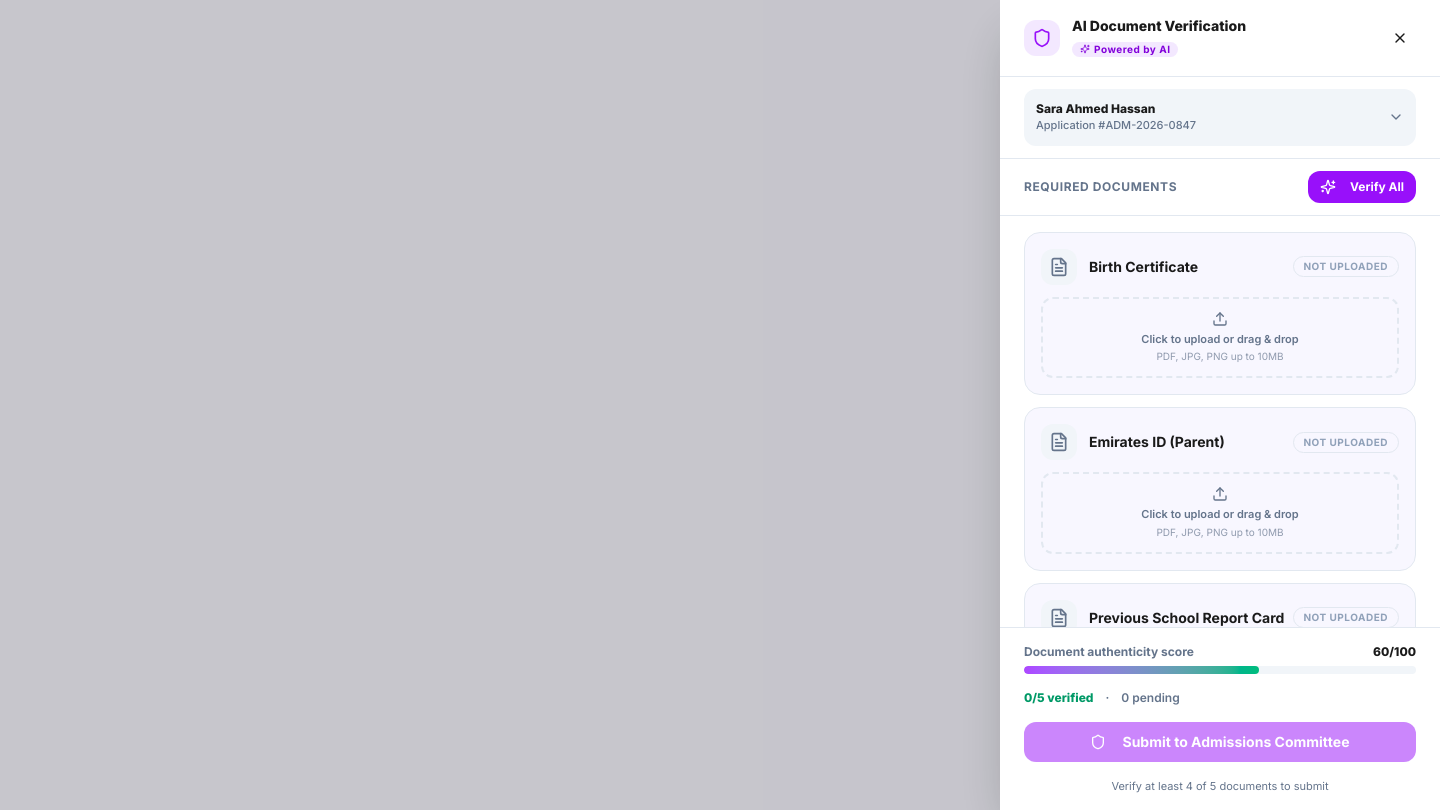
it: AIDocumentVerification › verifying a document shows a failure message when Math.random rolls high
This screenshot has width=1440, height=810.
Click the text "Click to upload or drag & drop" below "Birth Certificate" at (1220, 338), box [1141,332,1299,346]
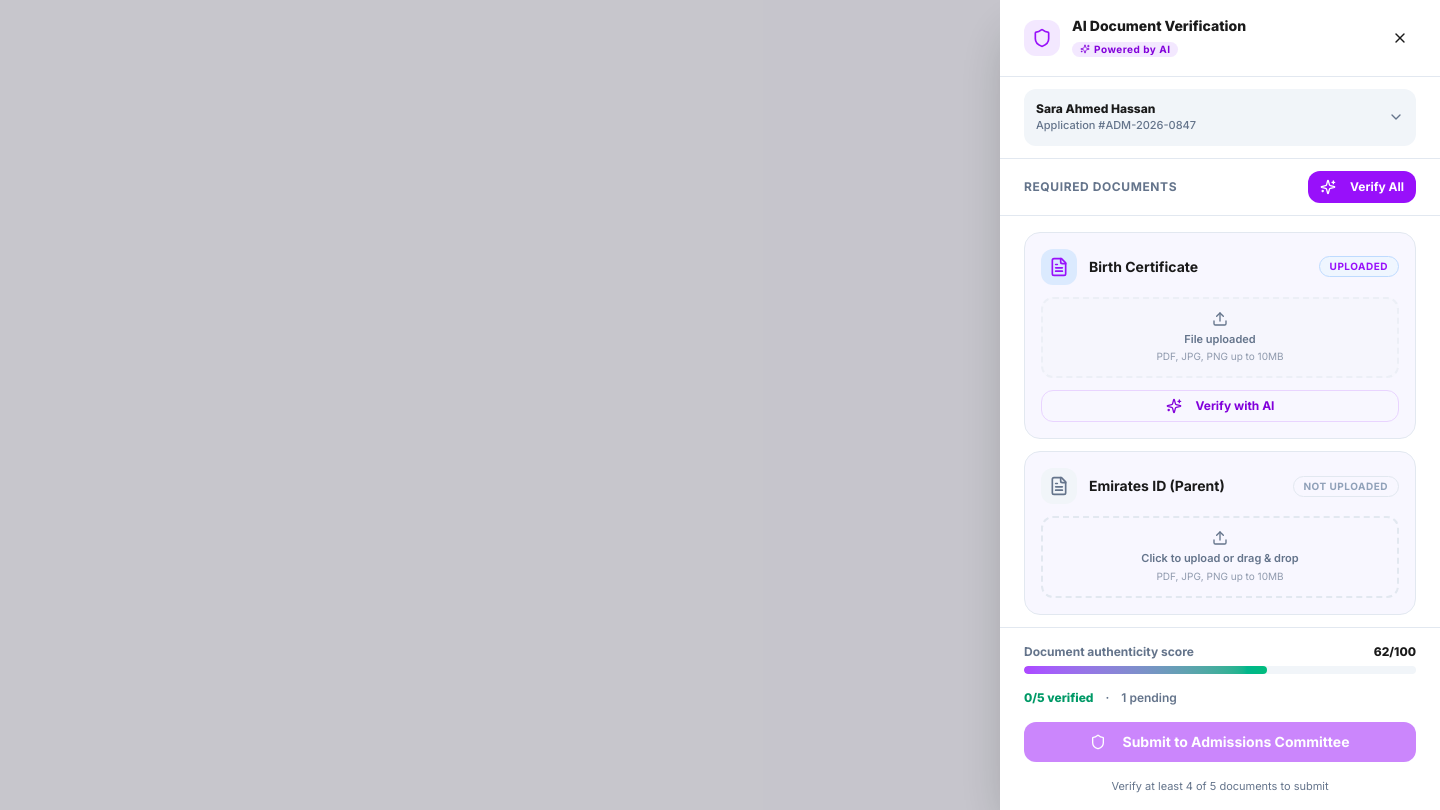
Click the button "Verify with AI" at (1220, 406), box [1041,390,1399,422]
Wait 2000 ms
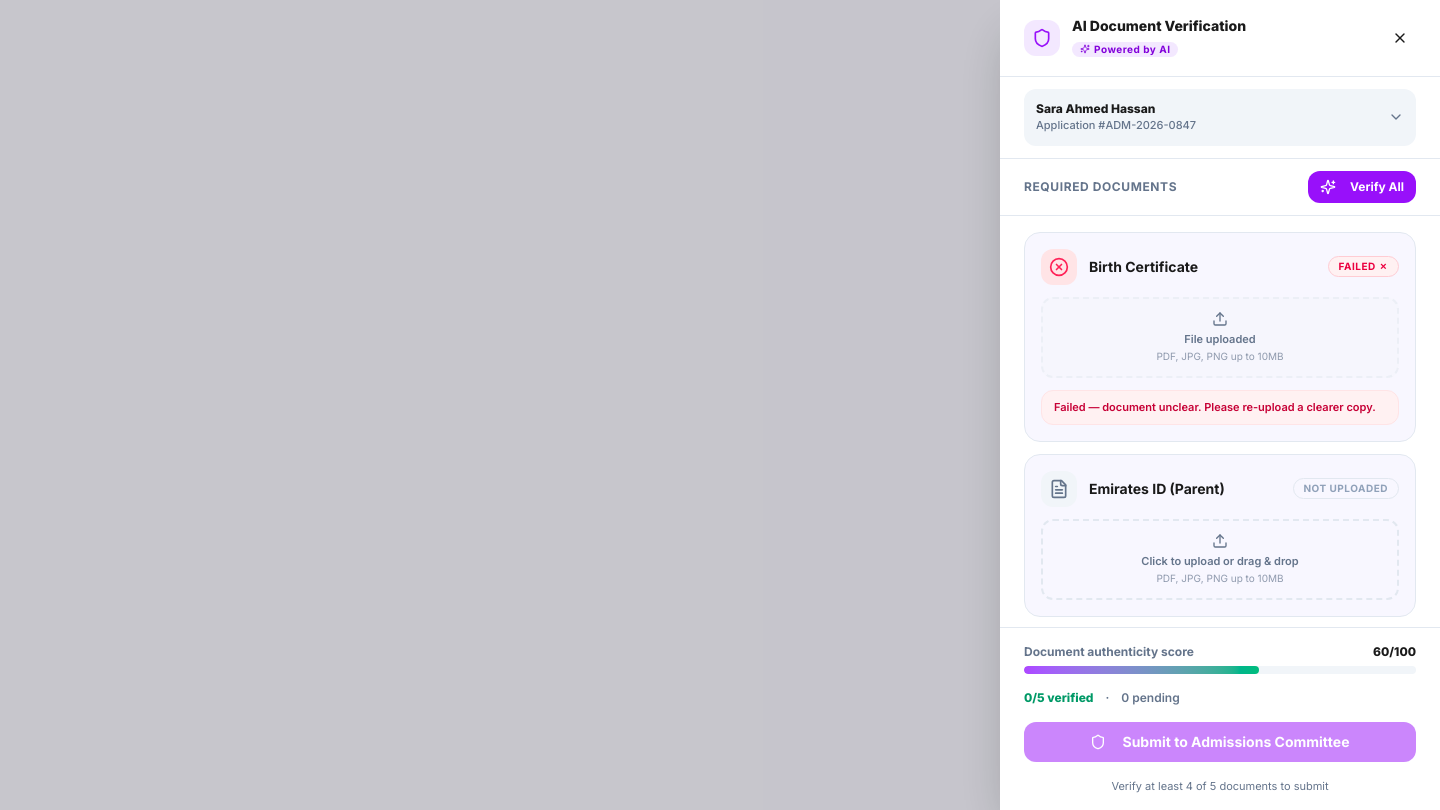
Result: the text "Failed ✗" is shown at [1328,256,1399,277]
Result: the text "Failed — document unclear. Please re-upload a clearer copy." is shown at [1054,399,1386,416]
